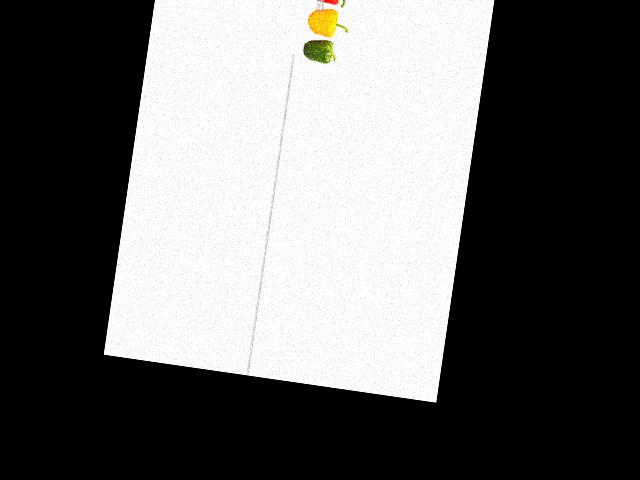bell_pepper: (299, 37, 343, 68)
